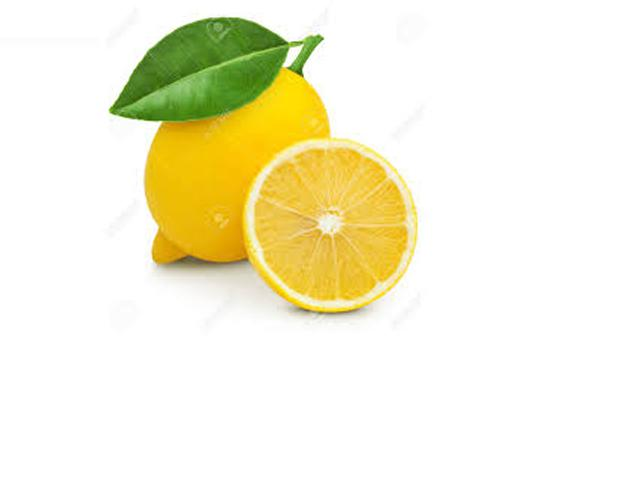lemon: (133, 35, 340, 274)
